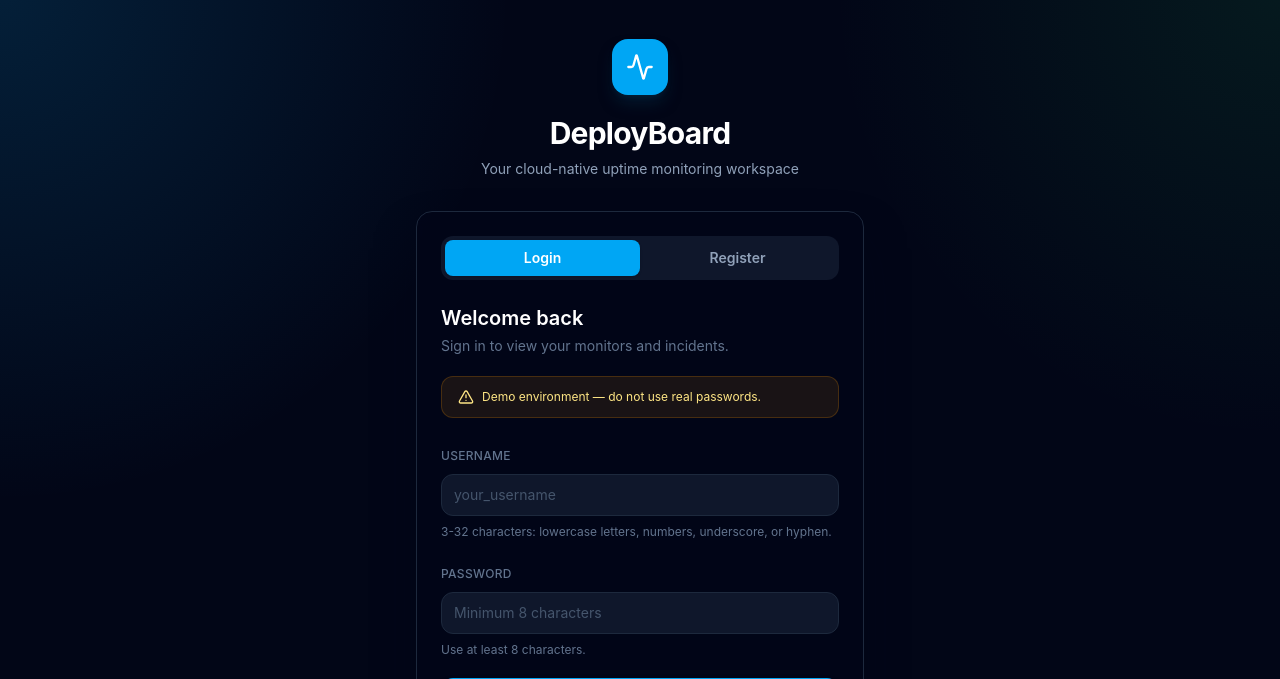
authentication › logs in through the login endpoint
Step 1. Type "test_user" into the field labelled "Username" → coordinates (640, 495), box [441,474,839,516]
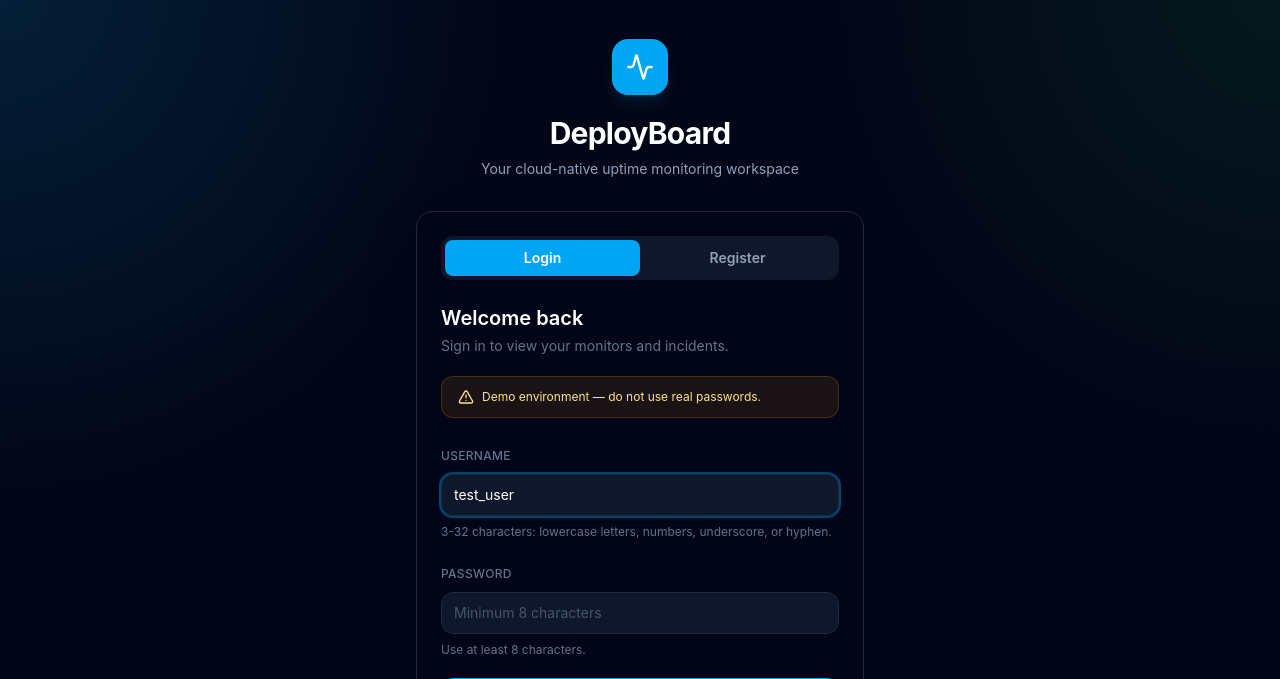
Step 2. Type "password123" into the password field labelled "Password" → coordinates (640, 613), box [441,592,839,634]
(page scrolled)
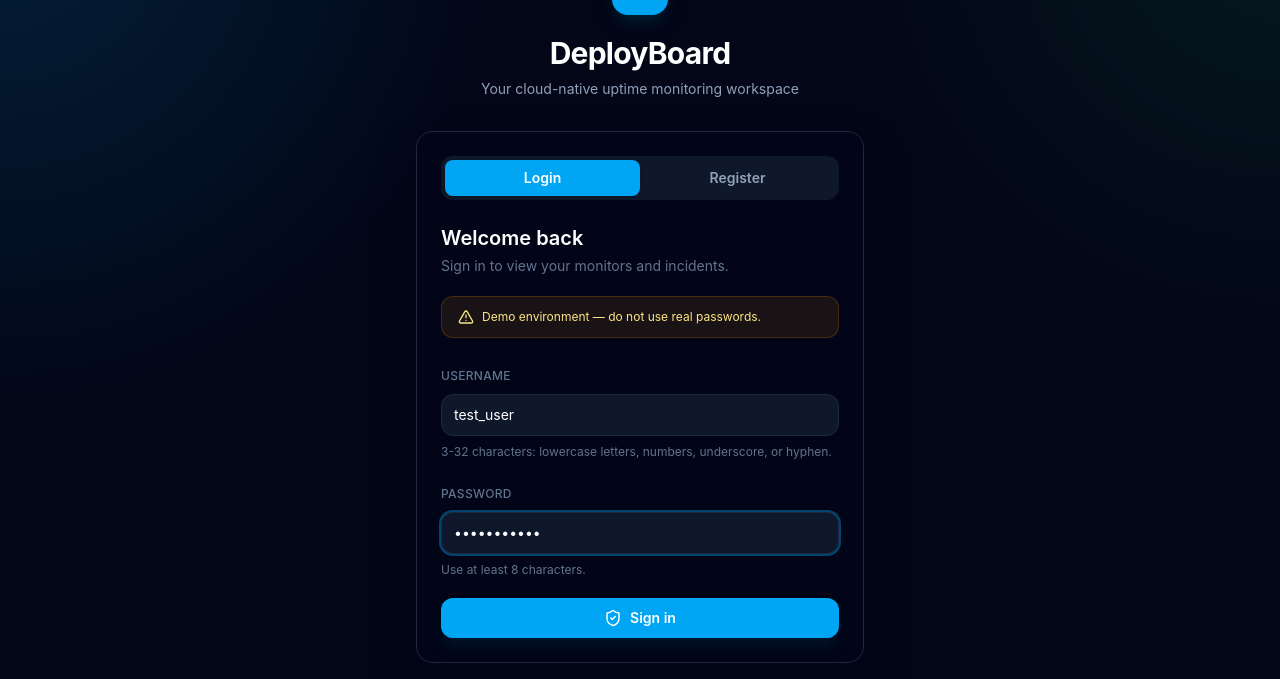
Step 3. Click the button "Sign in" → coordinates (640, 618), box [441,598,839,638]
(page scrolled)
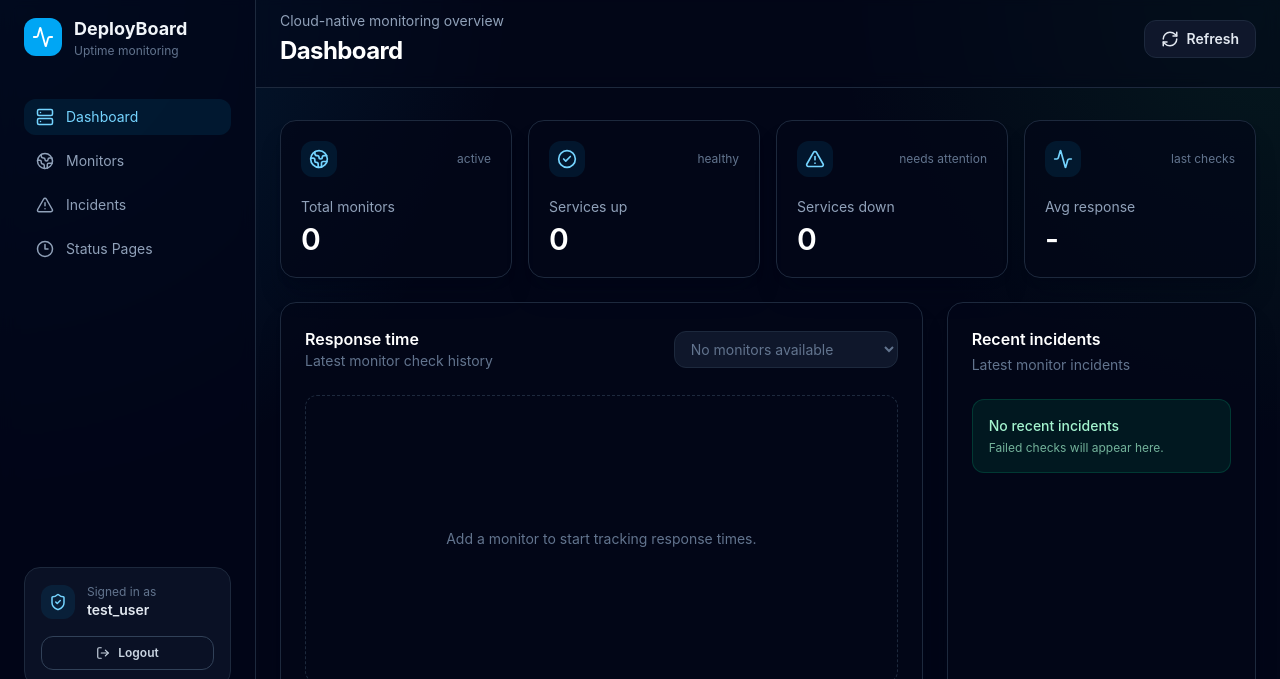
expect the heading "Dashboard" is shown: met, box [280,36,403,65]
